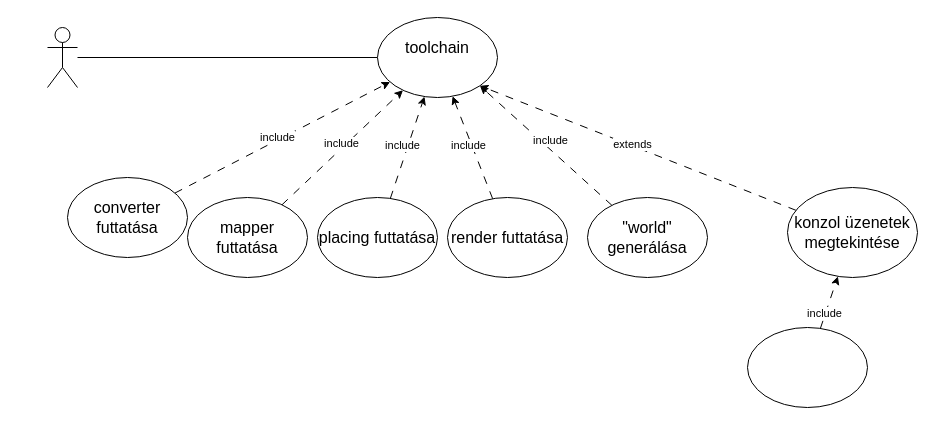
Some shapes in this 935 by 425 pixel diagram are drawn without their labels. Each missing label, with the centre of its shape:
felhasználó: pixel 62 57
pontos idő lekérdezése: pixel 807 367
